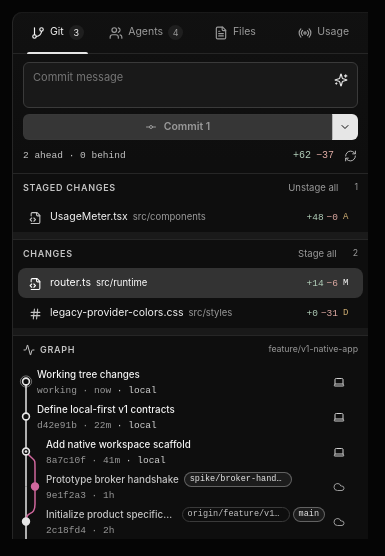
Test: RightRail › marks unavailable vendor plan data instead of inventing a plan percentage
Click the tab "Usage" at (324, 32), box [279, 12, 368, 53]
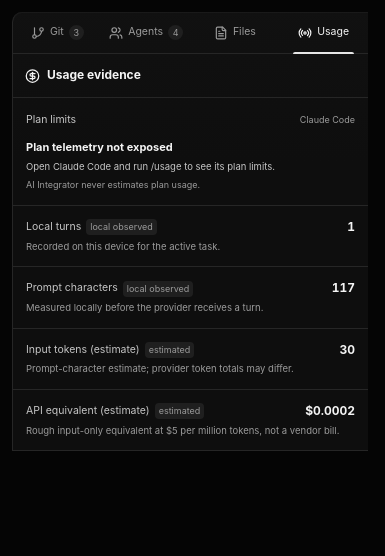
Now the text "Plan telemetry not exposed" is shown, box [26, 140, 173, 154]
Now the text "Open Claude Code and run /usage to see its plan limits." is shown, box [26, 161, 275, 172]
